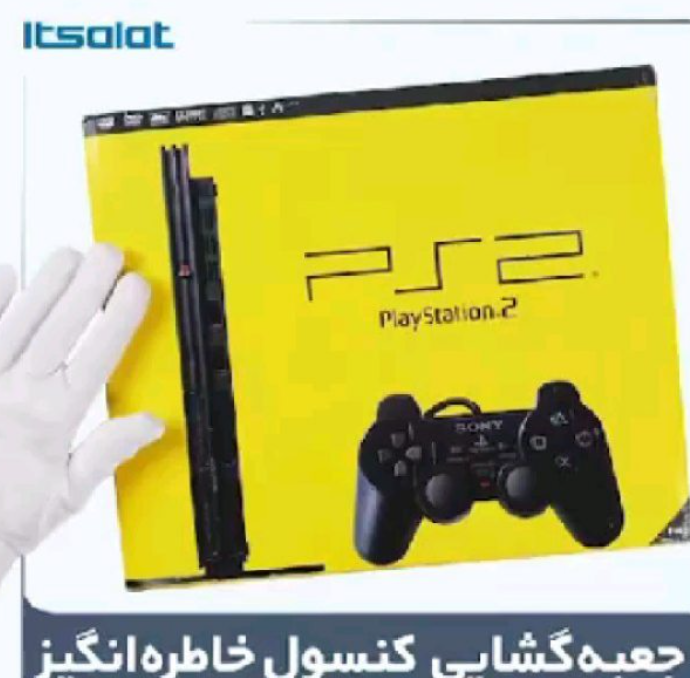gamingconsole: (345, 380, 622, 557)
